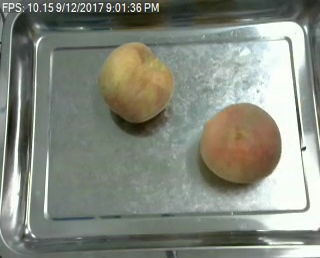Peach: (201, 102, 282, 183), (99, 40, 174, 124)
